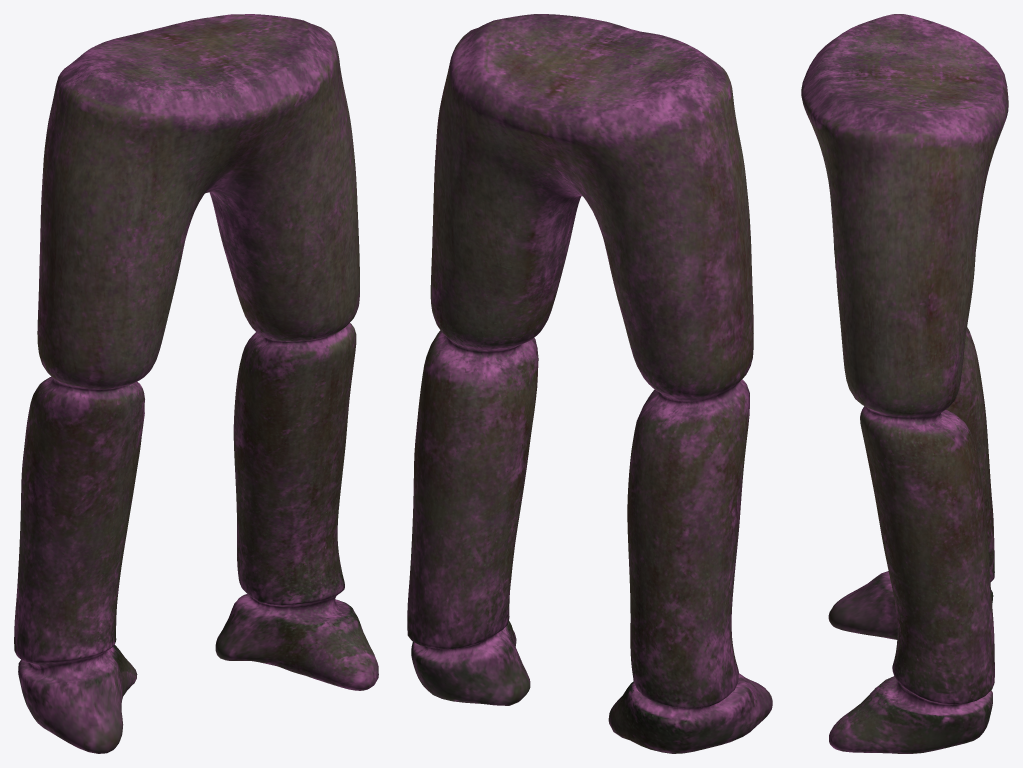
File: LP_Behemoth_Monster_Legs_Final_01.fbx
3 views of the same model, side by side, from view 1: azimuth 30°, elevation 25°; view 2: azimuth 150°, elevation 25°; view 3: azimuth 270°, elevation 25° (orthographic). The views are drawn at different scales.
Parts seen in each view (by area): view 1: geo_LP_Behemoth_Monster_Legs_01; view 2: geo_LP_Behemoth_Monster_Legs_01; view 3: geo_LP_Behemoth_Monster_Legs_01.
Part boxes in pixels (x1=…): geo_LP_Behemoth_Monster_Legs_01: x1=14, y1=14, x2=378, y2=753; geo_LP_Behemoth_Monster_Legs_01: x1=407, y1=14, x2=772, y2=753; geo_LP_Behemoth_Monster_Legs_01: x1=801, y1=14, x2=1008, y2=753.
Size of the model in its own units: 0.4645 by 0.9011 by 0.2711.
